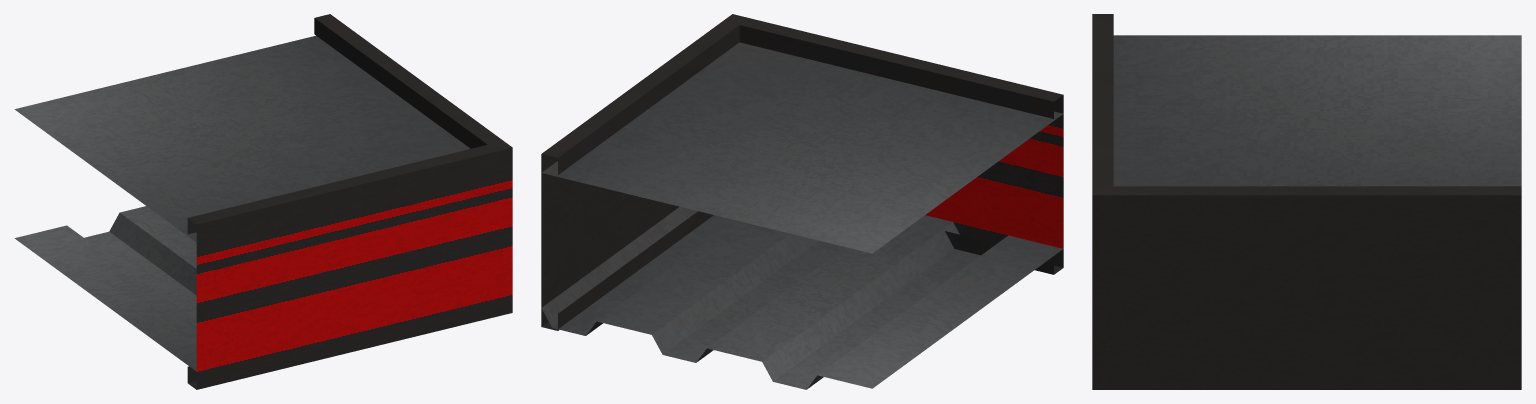
Rendered from GasRoof_3.glb.
The picture shows the model from 3 angles, left to right: view 1: azimuth 30°, elevation 25°; view 2: azimuth 150°, elevation 25°; view 3: azimuth 270°, elevation 25°; orthographic projection. The views are drawn at different scales.
Visible parts, largest first — view 1: GasRoof_3.001; view 2: GasRoof_3.001; view 3: GasRoof_3.001.
Boxes of the visible parts, x1,y1,x2,y2 form: GasRoof_3.001: (14,14,512,389); GasRoof_3.001: (541,14,1063,389); GasRoof_3.001: (1092,14,1521,389).
Bounding box in the file's own units: 2 × 1 × 2.
1 material, 1 textured.
